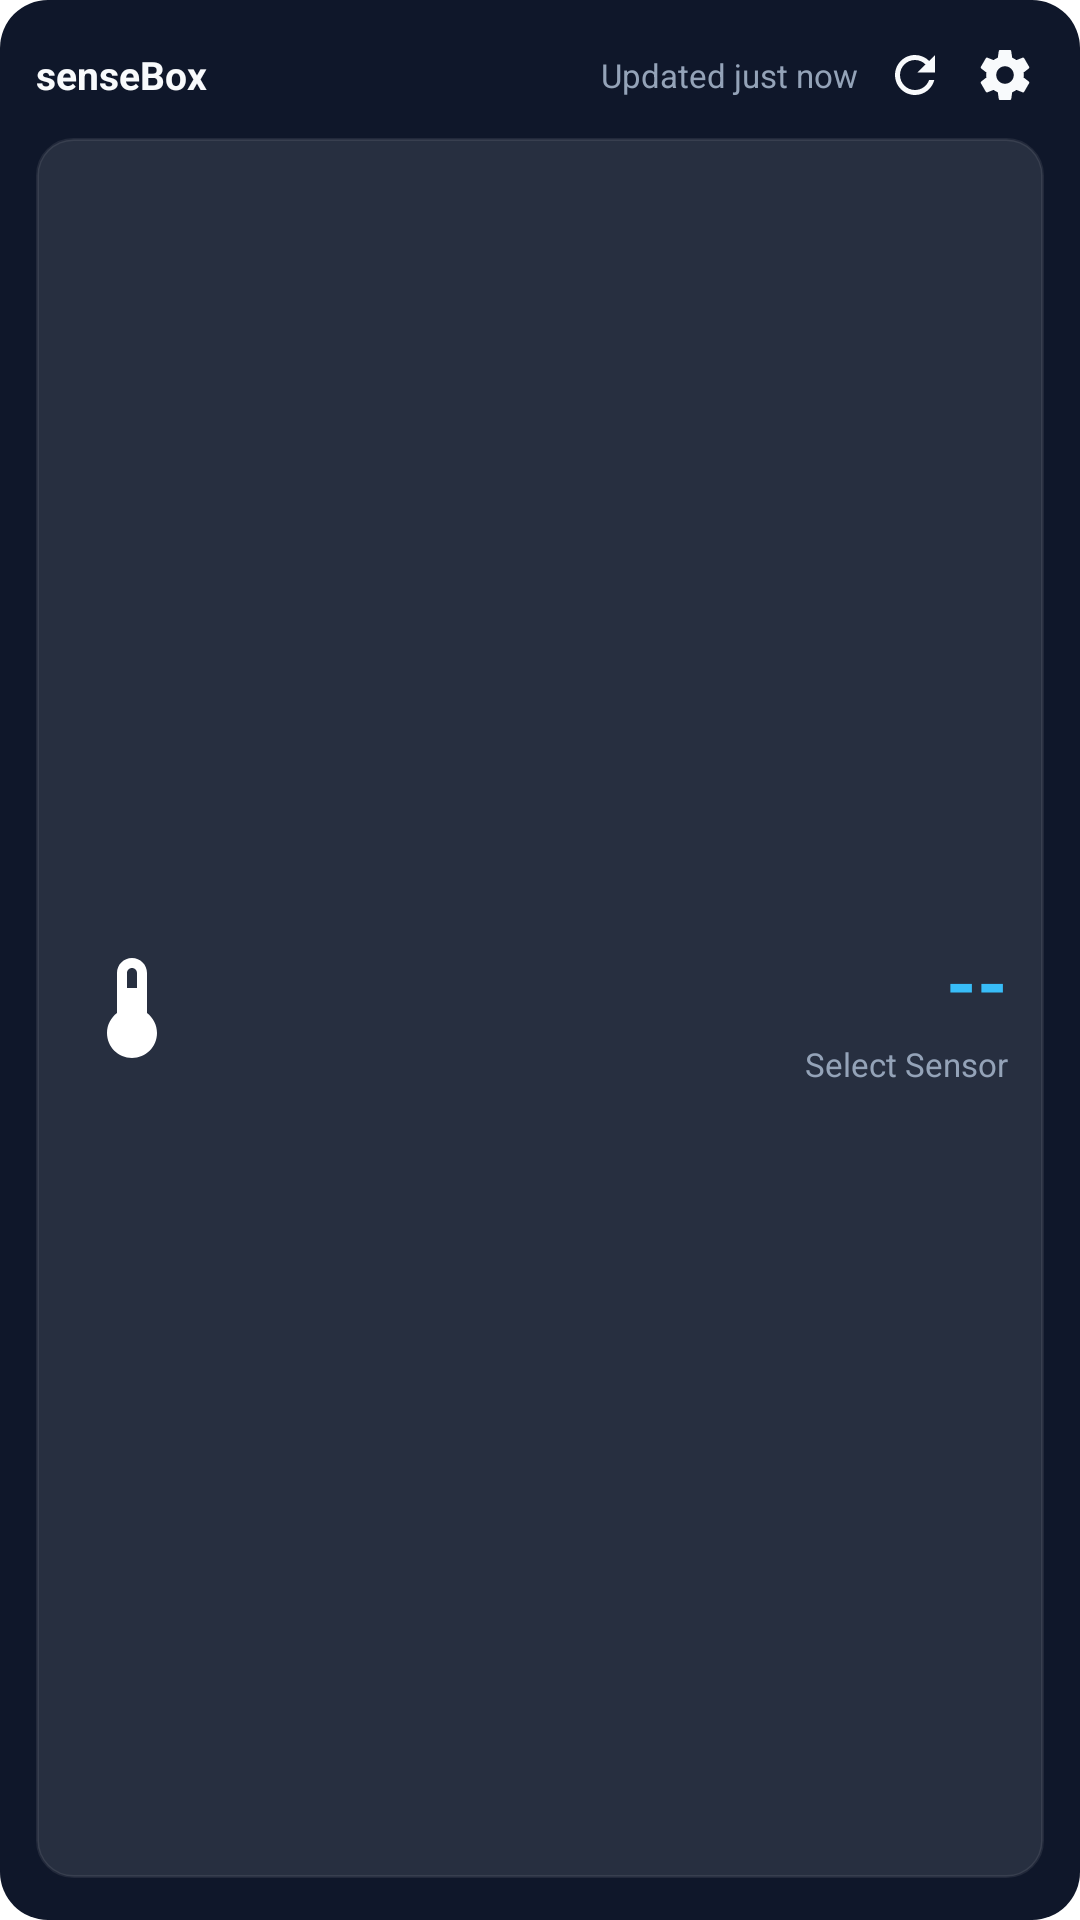

Screen size 1080*1920. Icon name, then its box in pixels as (x1, y1, x2, y2):
Configure Widget: (980, 50, 1030, 100)
Refresh Widget: (895, 55, 935, 95)
